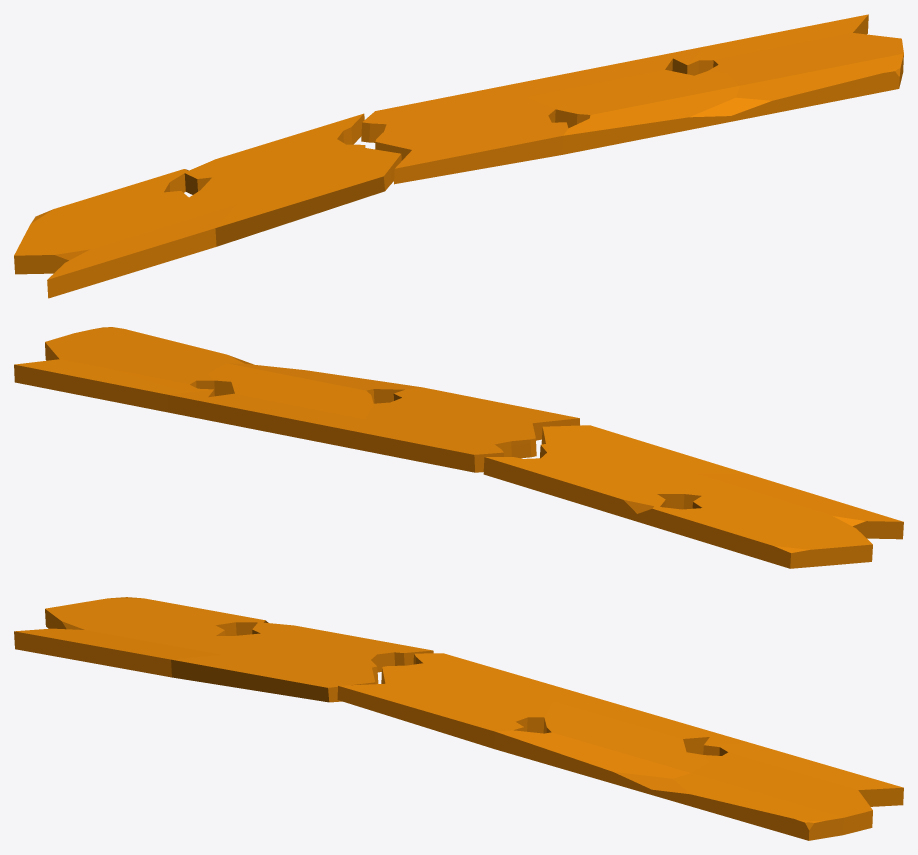
Rendered from Rotten and broken wood_6.fbx.
3 renders of one model, top to bottom at view 1: azimuth 30°, elevation 25°; view 2: azimuth 150°, elevation 25°; view 3: azimuth 330°, elevation 25°, orthographic. The views are drawn at different scales.
Parts seen in each view (by area): view 1: Cube.065, Cube.069; view 2: Cube.065, Cube.069; view 3: Cube.065, Cube.069.
Part boxes in pixels (x1,y1,x2,y2): Cube.065: [361, 14, 903, 184]; Cube.069: [14, 113, 401, 298]; Cube.065: [14, 327, 580, 472]; Cube.069: [483, 425, 903, 568]; Cube.065: [337, 653, 903, 840]; Cube.069: [14, 597, 433, 702].
Size of the model in its own units: 101 by 4.93 by 13.07.
